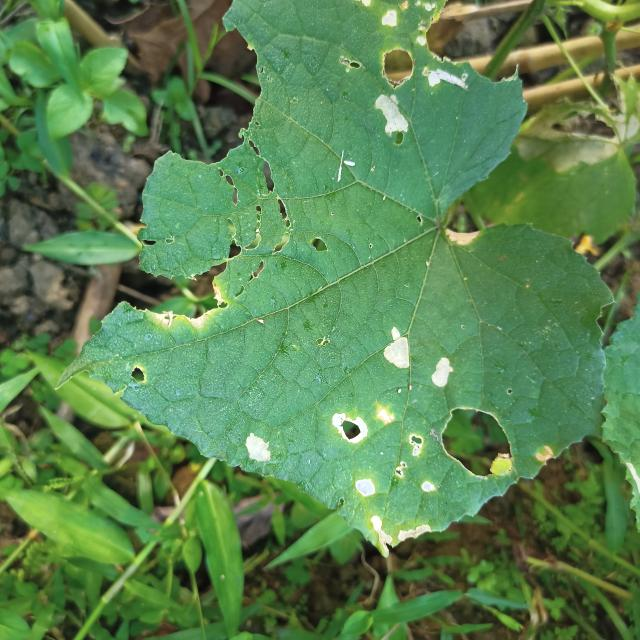disease_cucumber: (236, 400, 444, 559), (340, 4, 478, 144), (380, 328, 458, 399)
